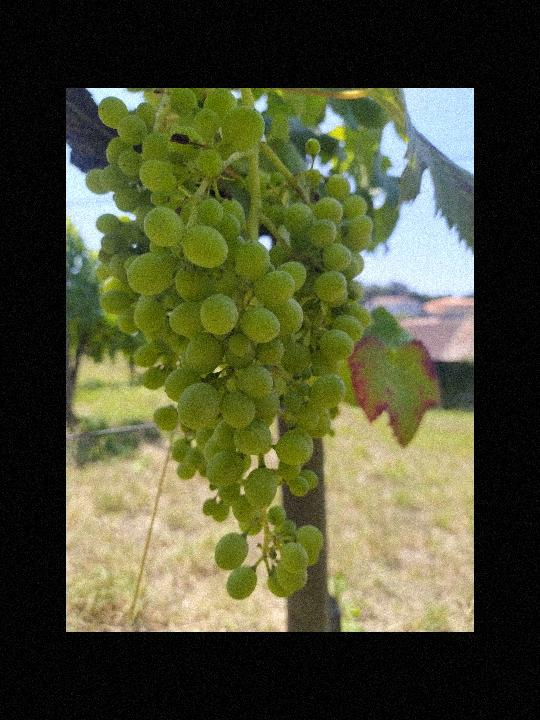grape: (84, 91, 376, 602)
